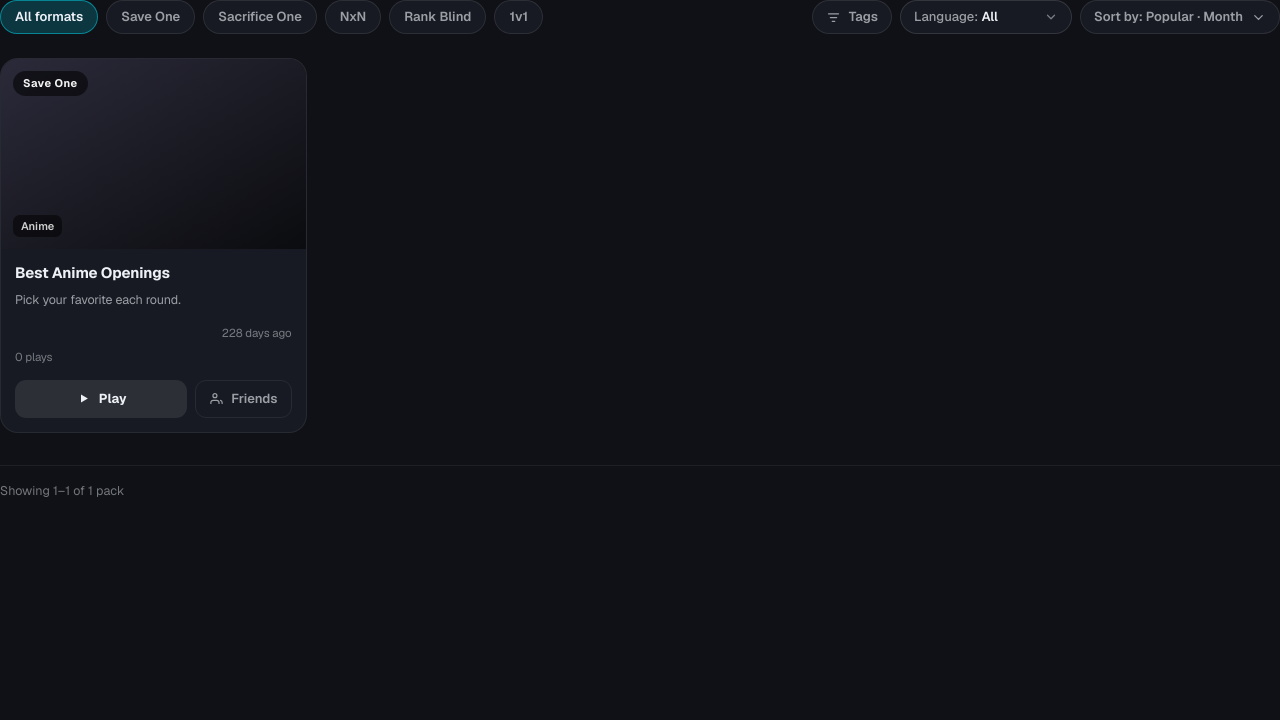
HomeFeed › applies the drafted tags to the fetch only when Apply is clicked
expect the heading "Best Anime Openings" is shown: met, box [15, 263, 170, 282]
Step 1. Click the button "Tags" → (852, 17), box [812, 0, 892, 34]
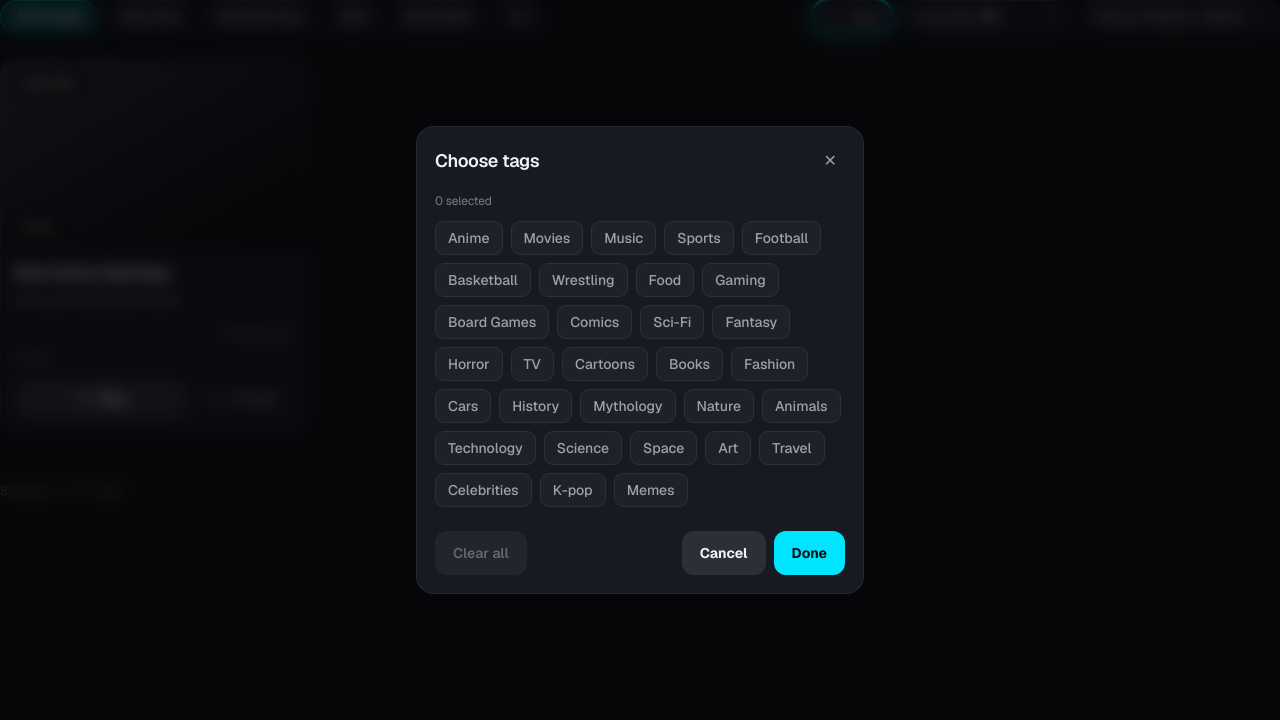
Step 2. Click the checkbox labelled "Anime" → (469, 238), box [435, 221, 502, 255]
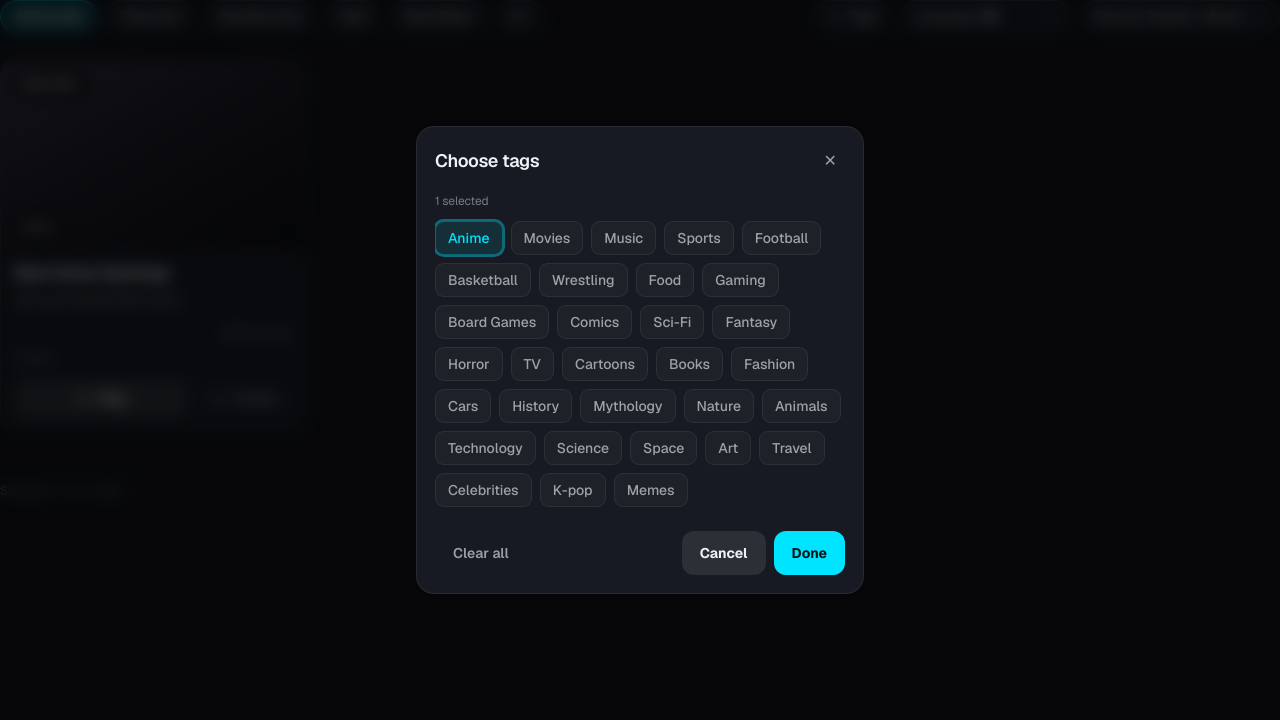
Step 3. Click the checkbox labelled "Music" → (624, 238), box [591, 221, 656, 255]
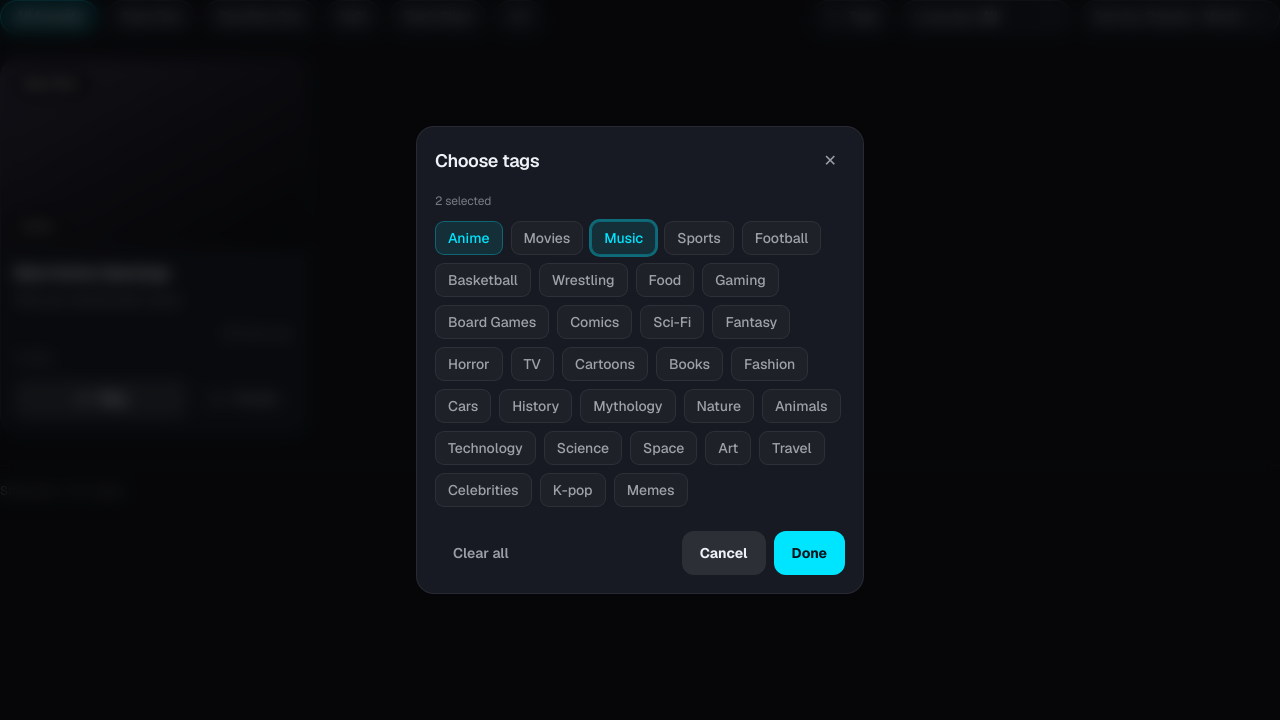
Step 4. Click the button "Done" → (809, 553), box [774, 531, 845, 575]
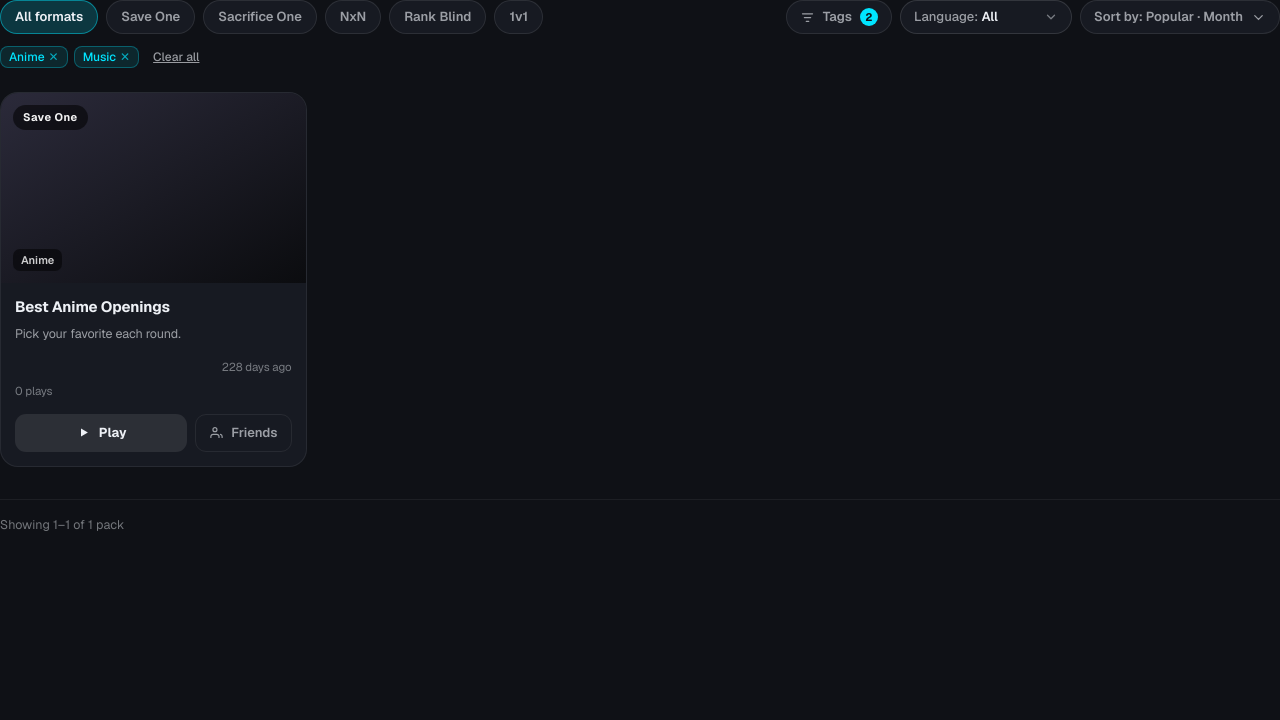
expect the button "Tags 2" is shown: met, box [786, 0, 892, 34]
